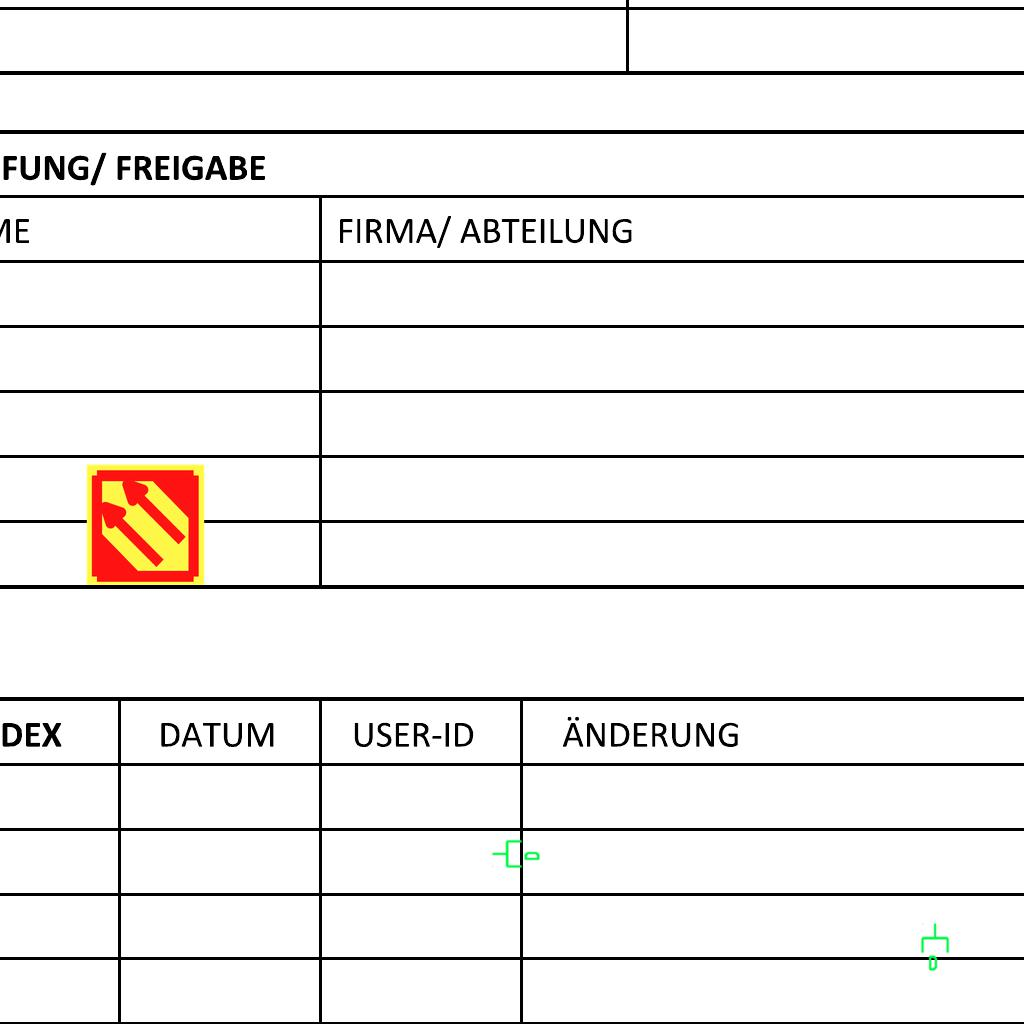ASR_Ansaugrauchmelder: (83, 462, 208, 587)
Datenanschluss_einfach: (919, 922, 953, 972), (491, 836, 541, 870)
